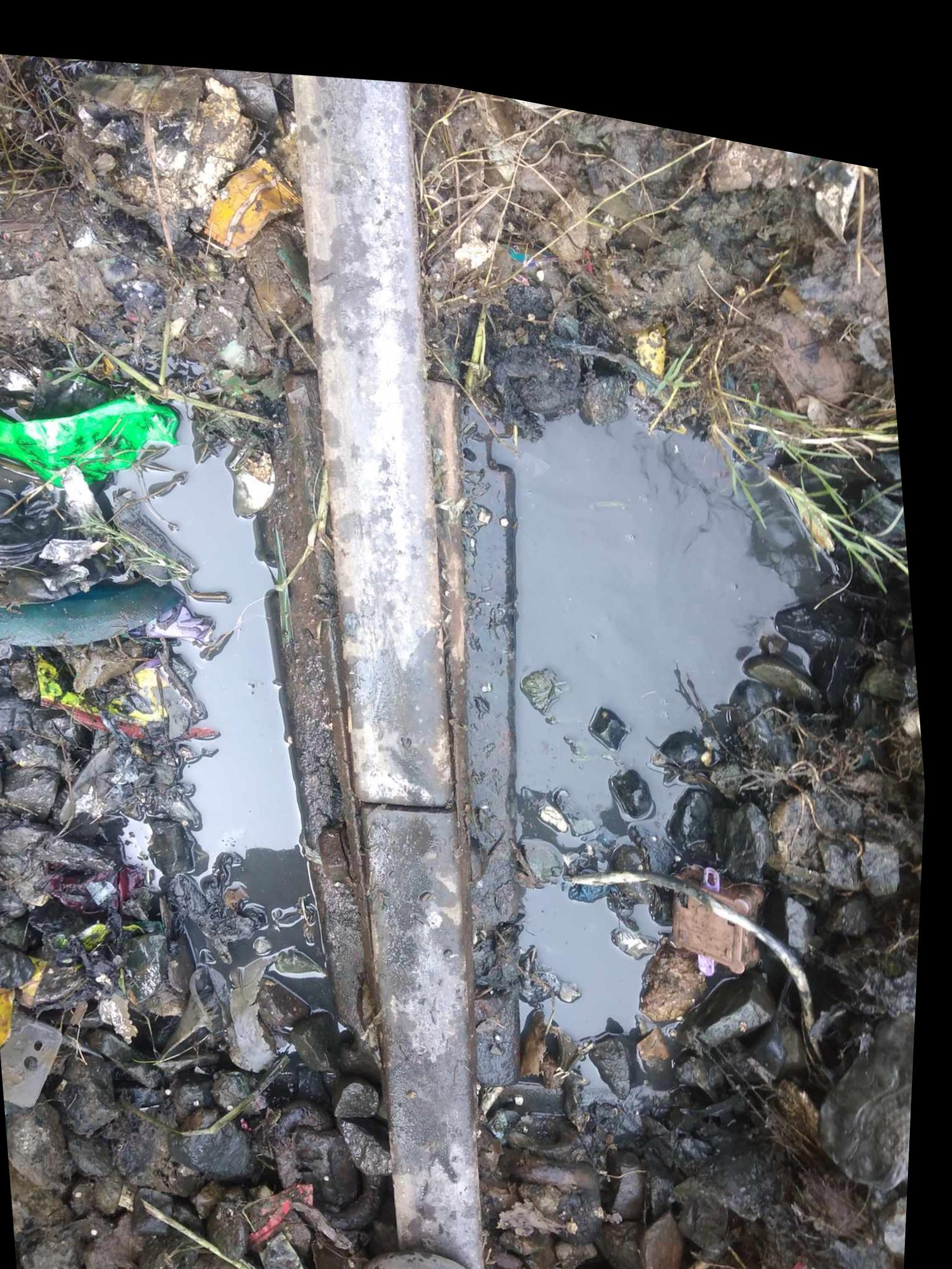person: (324, 684, 511, 894)
